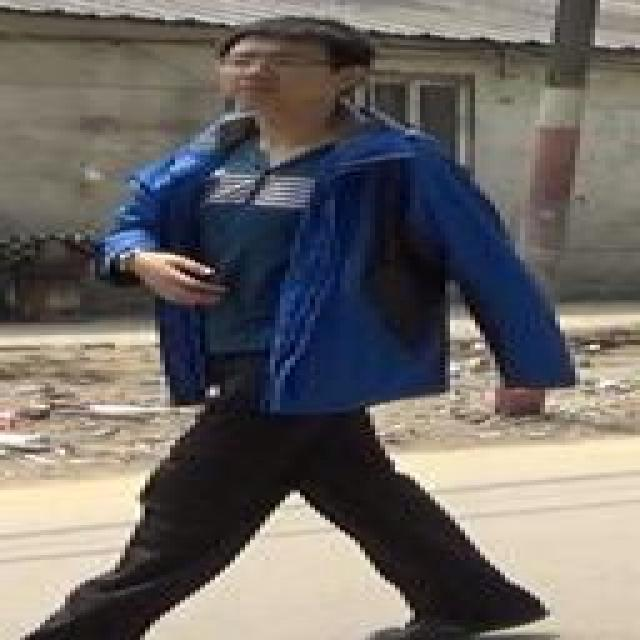adult: (15, 12, 577, 640)
